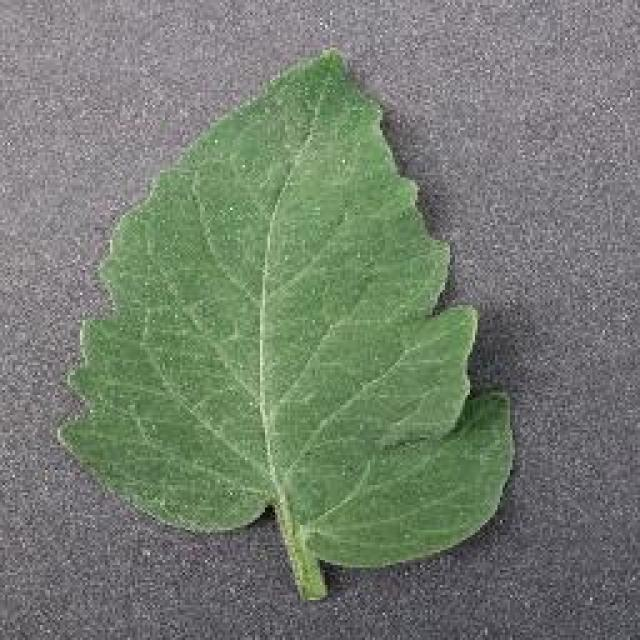healthy: (61, 50, 512, 599)
